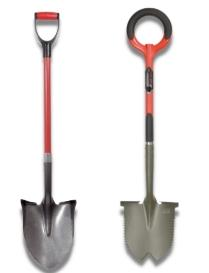PELLE: (0, 4, 178, 273)
